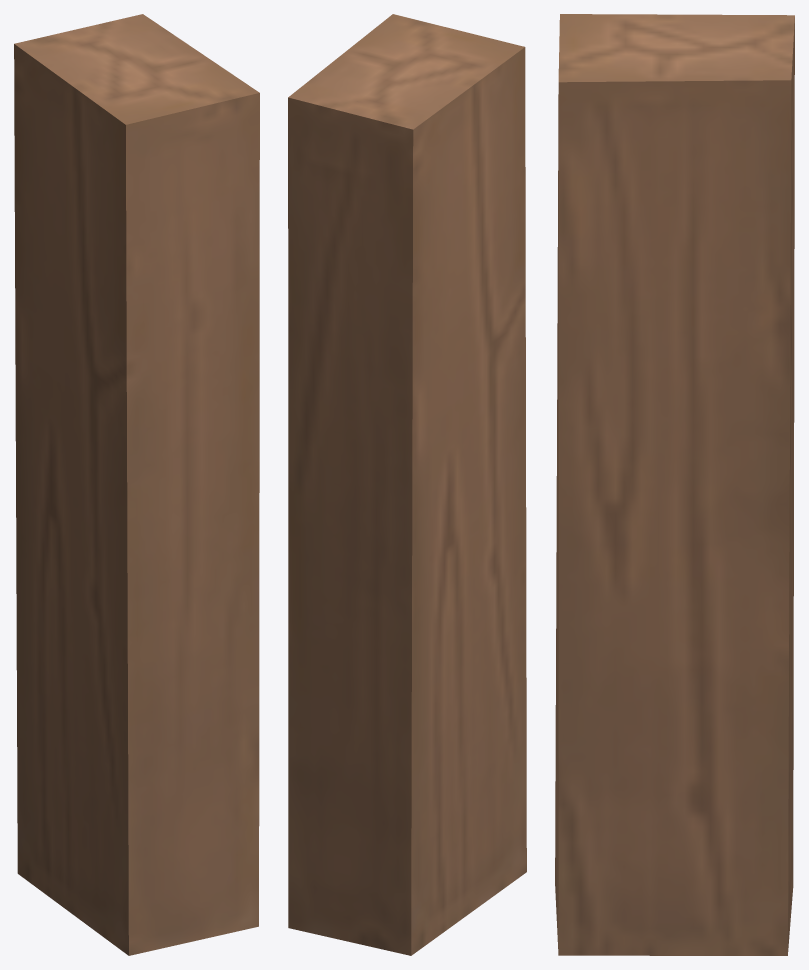
The model's file is Prfb_WoodBoards.fbx.
The picture shows the model from 3 angles, left to right: view 1: azimuth 30°, elevation 25°; view 2: azimuth 150°, elevation 25°; view 3: azimuth 270°, elevation 25°; orthographic projection. The views are drawn at different scales.
Parts seen in each view (by area): view 1: Mat_WoodBoards_01; view 2: Mat_WoodBoards_01; view 3: Mat_WoodBoards_01.
Boxes of the visible parts, <box> form: Mat_WoodBoards_01: <box>14,14,259,955</box>; Mat_WoodBoards_01: <box>288,14,526,955</box>; Mat_WoodBoards_01: <box>555,14,794,955</box>.
Size of the model in its own units: 0.1579 by 0.9454 by 0.2346.
Materials: 1 (1 with a texture image).
